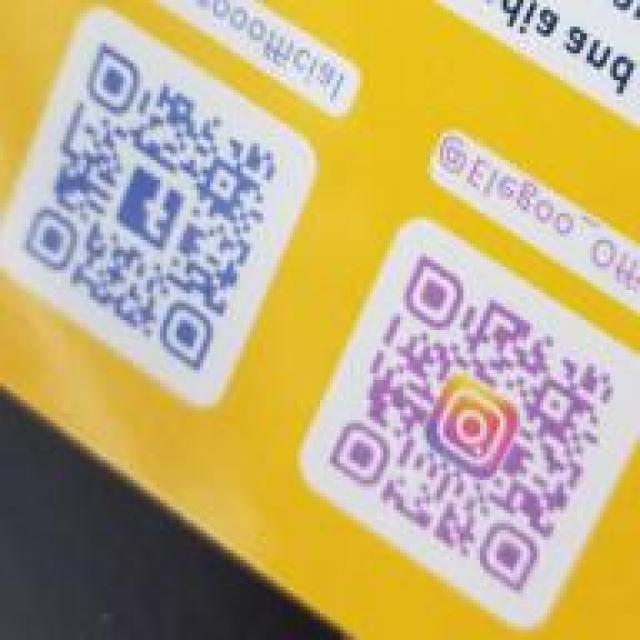QR_CODE: (313, 220, 620, 605), (10, 33, 283, 380)
